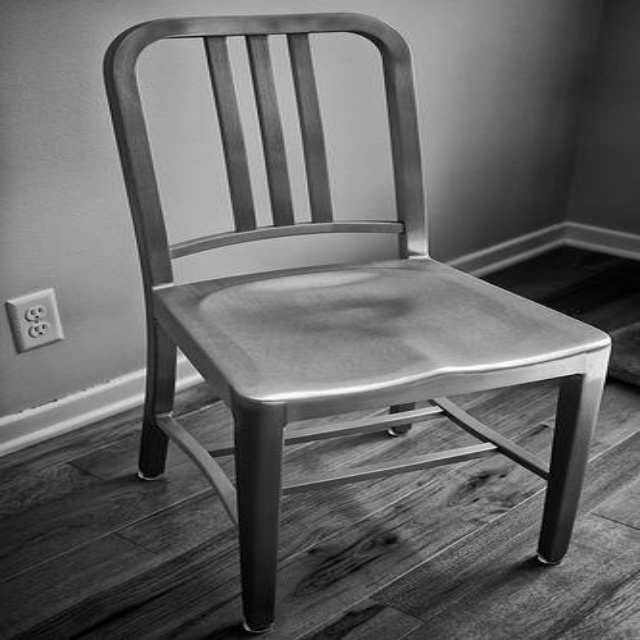obstacle: (104, 13, 607, 631)
